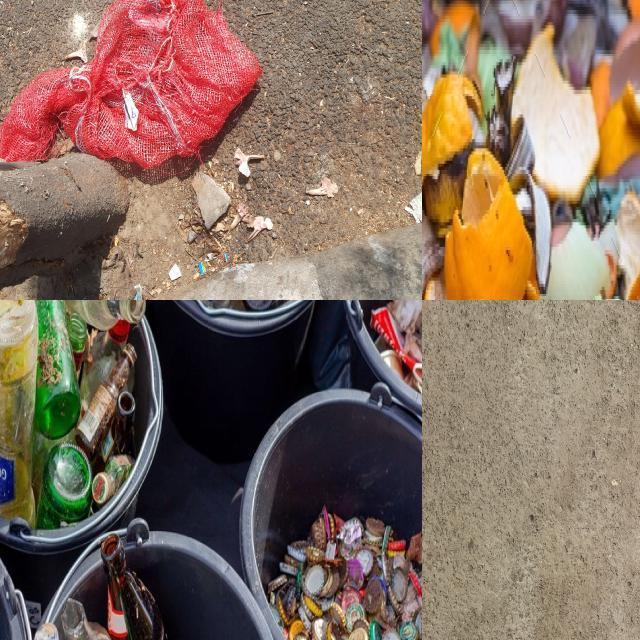Background: (422, 300, 640, 640)
Garbage: (422, 0, 640, 300), (0, 300, 145, 530), (266, 507, 422, 640), (61, 533, 168, 640), (371, 300, 422, 396)
Glass_bottle: (0, 300, 38, 524), (101, 533, 168, 640), (76, 344, 136, 462), (34, 300, 80, 440), (36, 444, 92, 530), (80, 320, 130, 406), (94, 391, 136, 472), (65, 300, 145, 331), (92, 454, 132, 507), (61, 601, 111, 640), (67, 313, 88, 352)
Metal: (266, 507, 422, 640)
Plastic_Bag: (0, 0, 262, 169)
Plastic_wraper: (405, 192, 422, 224), (133, 285, 142, 300)
